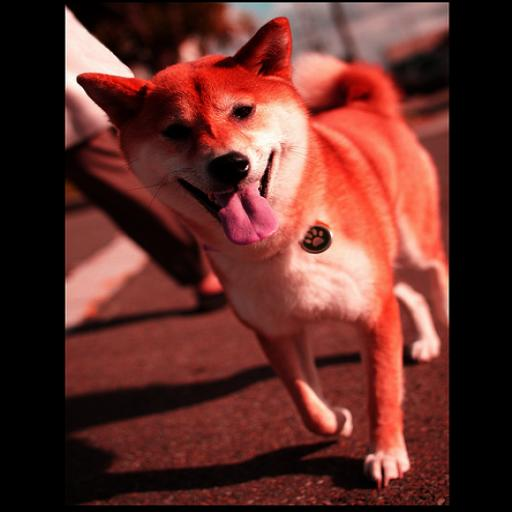dog_face: (83, 26, 316, 242)
